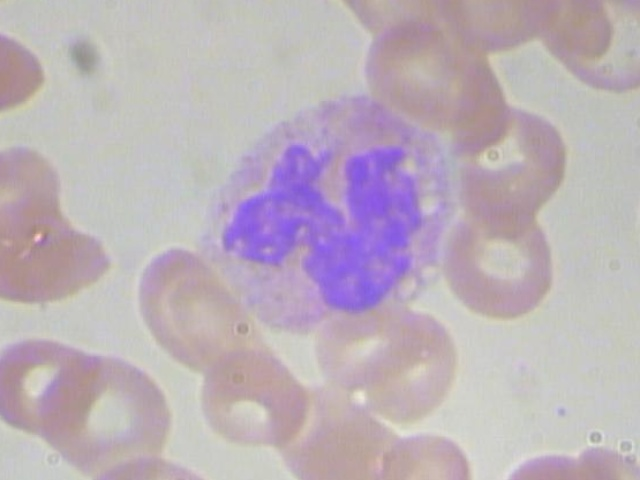RBC: (35, 344, 180, 480), (442, 195, 564, 328), (629, 150, 640, 281)
WBC: (191, 80, 466, 339)
